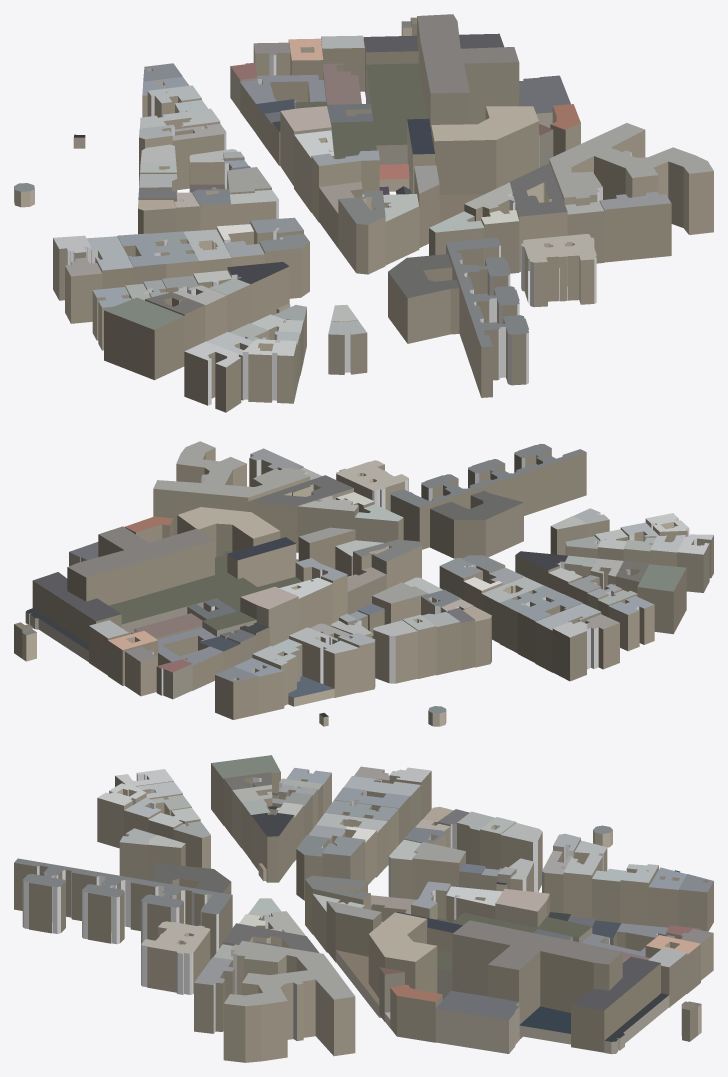
3 views of the same model, one above another, from view 1: azimuth 30°, elevation 25°; view 2: azimuth 150°, elevation 25°; view 3: azimuth 270°, elevation 25° (orthographic). The views are drawn at different scales.
Visible parts, largest first — view 1: tuile; view 2: tuile; view 3: tuile.
Boxes of the visible parts, x1,y1,x2,y2 form: tuile: (14, 14, 713, 412); tuile: (14, 441, 713, 726); tuile: (14, 755, 713, 1062).
Size of the model in its own units: 274 by 37.82 by 305.
